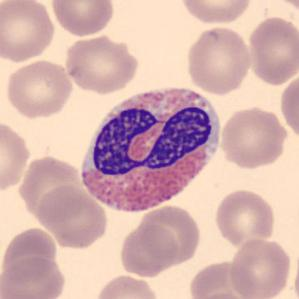Eosinophil: (74, 76, 229, 221)
RBC: (183, 24, 254, 96), (34, 183, 110, 250), (62, 33, 140, 95), (17, 154, 83, 225), (218, 105, 289, 171), (3, 58, 75, 119), (138, 202, 203, 267), (227, 236, 294, 299), (213, 187, 277, 248), (244, 14, 298, 86), (0, 0, 57, 64), (117, 221, 179, 278), (1, 224, 59, 282), (0, 254, 68, 299), (186, 258, 257, 299), (49, 0, 116, 38), (0, 117, 32, 195), (178, 0, 253, 26), (93, 272, 160, 299), (278, 71, 298, 143), (192, 290, 252, 299), (270, 0, 299, 17), (291, 244, 299, 299)
